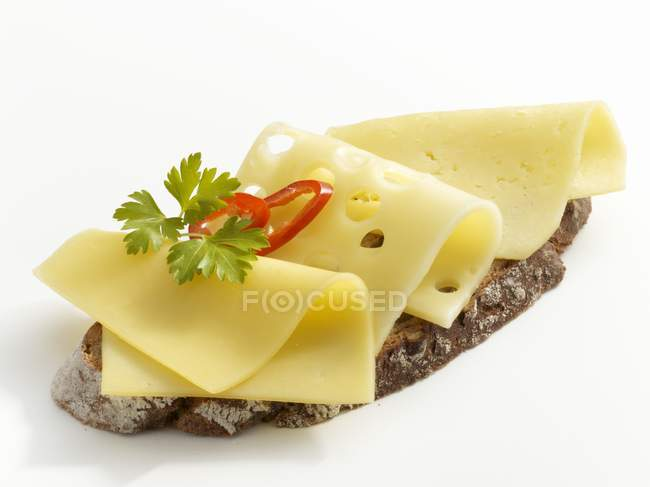slice of bread: (387, 237, 602, 320)
